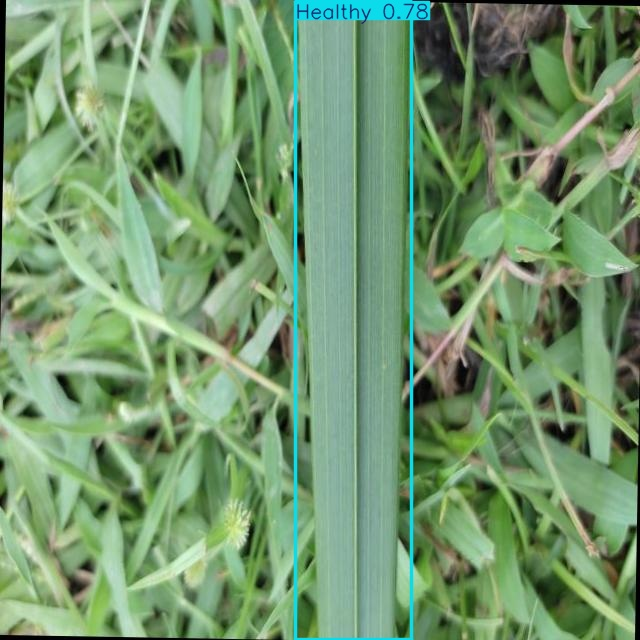Healthy: (296, 1, 412, 639)
